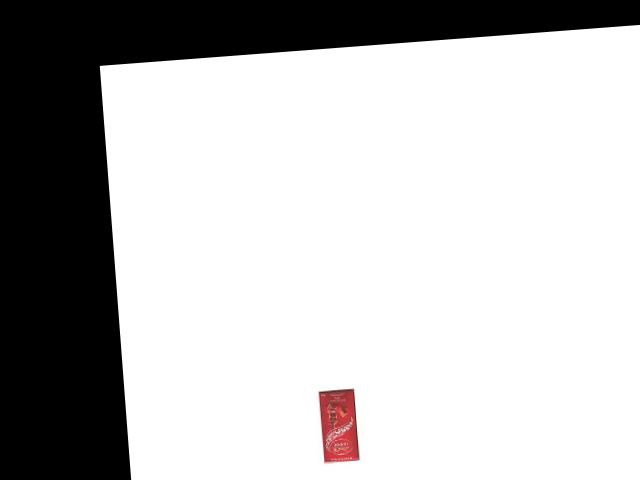chocolate: (316, 383, 360, 465)
